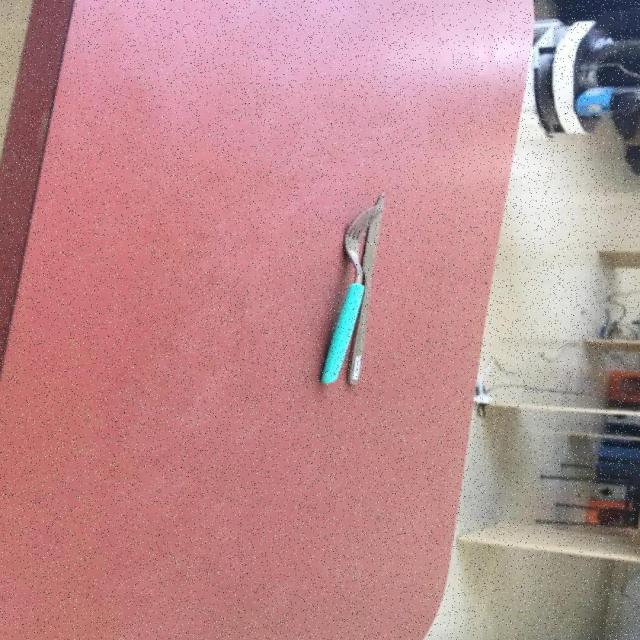Fork: (318, 191, 385, 384), (342, 191, 385, 384)
Knife: (318, 191, 385, 385)
